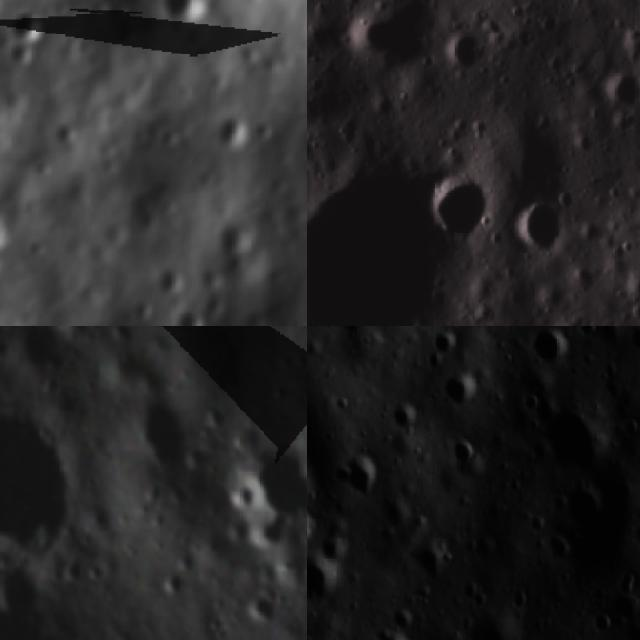crater: (307, 159, 458, 326), (0, 405, 80, 557), (343, 0, 443, 81), (531, 398, 610, 474), (130, 391, 198, 475), (242, 440, 307, 520), (432, 162, 492, 245), (507, 191, 567, 265), (0, 564, 58, 640), (330, 448, 380, 502), (519, 326, 578, 368), (444, 25, 485, 80), (595, 64, 640, 113), (562, 482, 605, 530), (408, 542, 453, 587), (156, 0, 215, 32), (432, 368, 475, 410), (307, 559, 341, 610), (465, 613, 528, 640), (8, 7, 52, 45), (249, 585, 285, 624), (154, 259, 190, 297), (221, 110, 256, 148), (429, 329, 464, 362), (620, 265, 640, 317), (176, 299, 214, 326), (613, 24, 640, 60), (132, 290, 158, 322), (586, 612, 616, 639), (0, 203, 13, 251), (622, 326, 640, 357), (307, 510, 318, 559)
